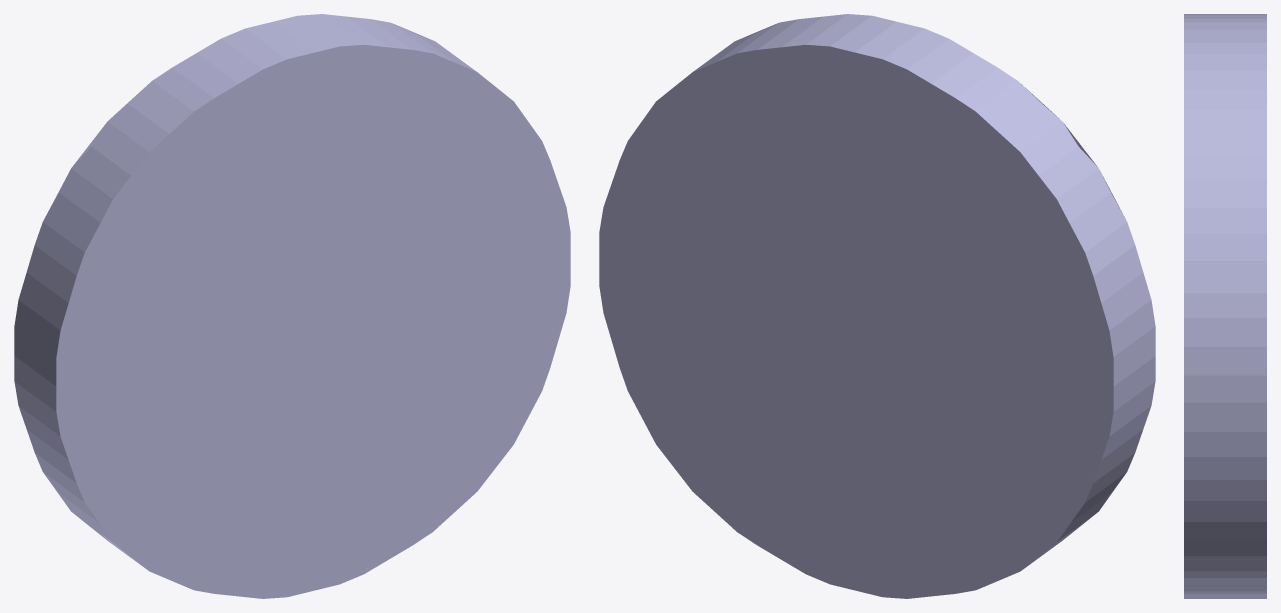
The picture shows the model from 3 angles, left to right: view 1: azimuth 30°, elevation 25°; view 2: azimuth 150°, elevation 25°; view 3: azimuth 270°, elevation 25°; orthographic projection.
Bounding box in the file's own units: 0.2191 × 0.2191 × 0.0311.
